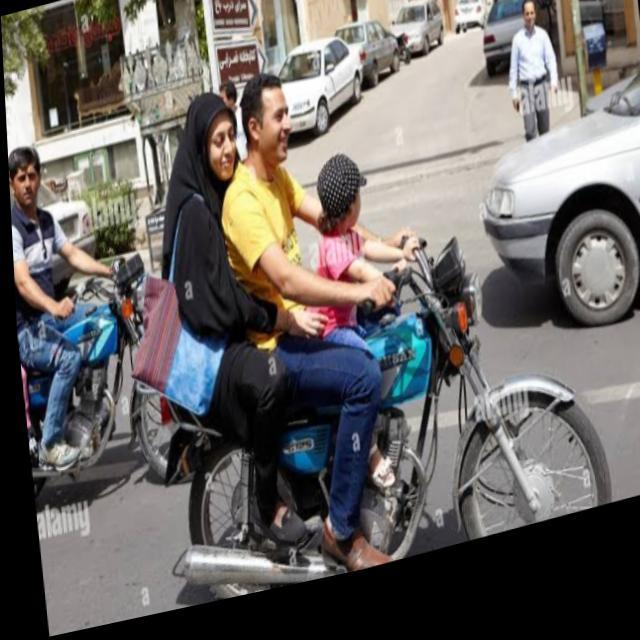Nonhelmet: (230, 64, 299, 168), (8, 142, 52, 214)
